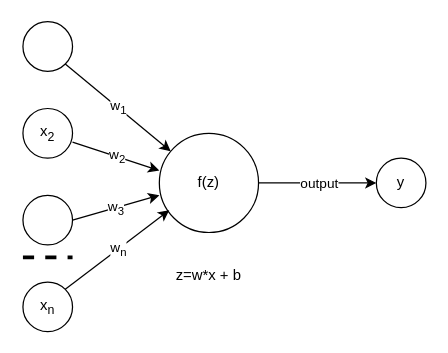
Some shapes in this 448 by 353 pixel diagram are drawn without their labels. Here are the shapes that lost their labels. From the top down, the centre of each, then its label:
At point (47, 45): "x 1".
At point (47, 219): "x 3".
